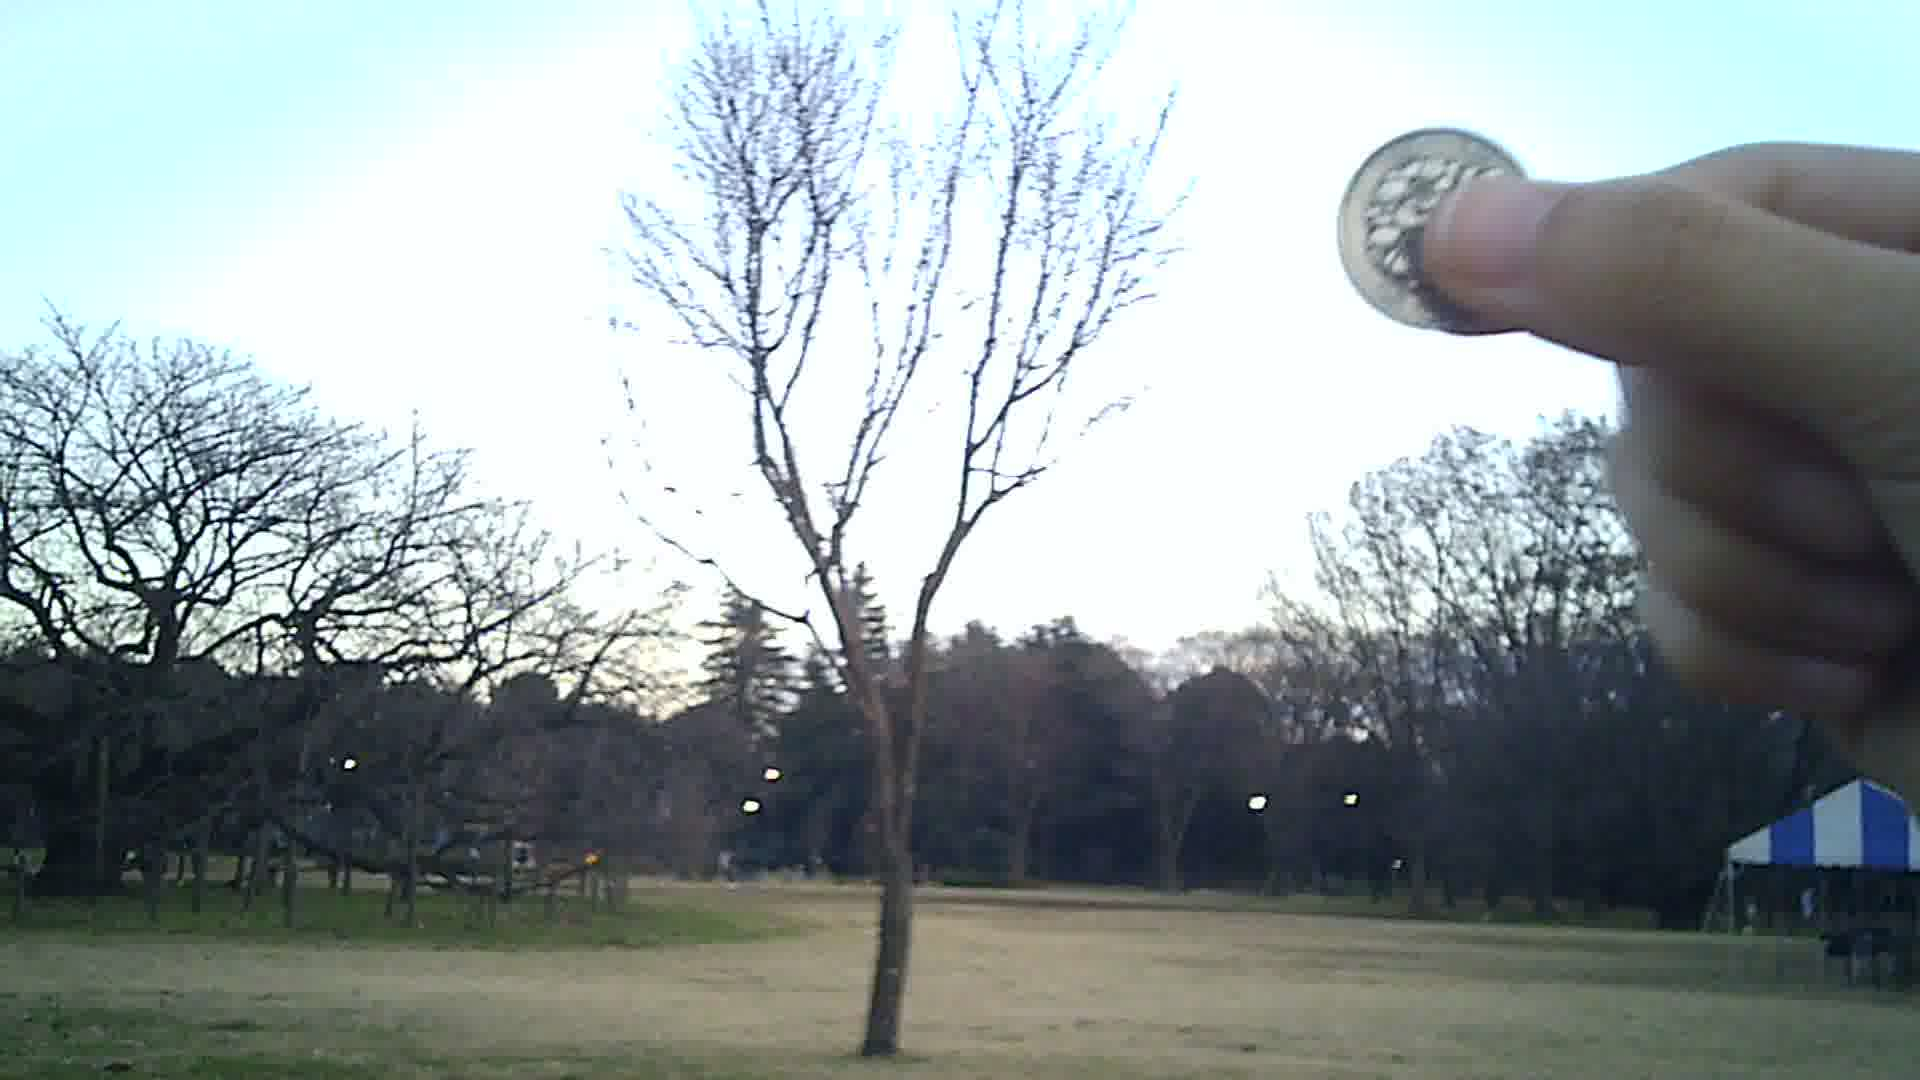100 Yen: (1324, 119, 1528, 328)
